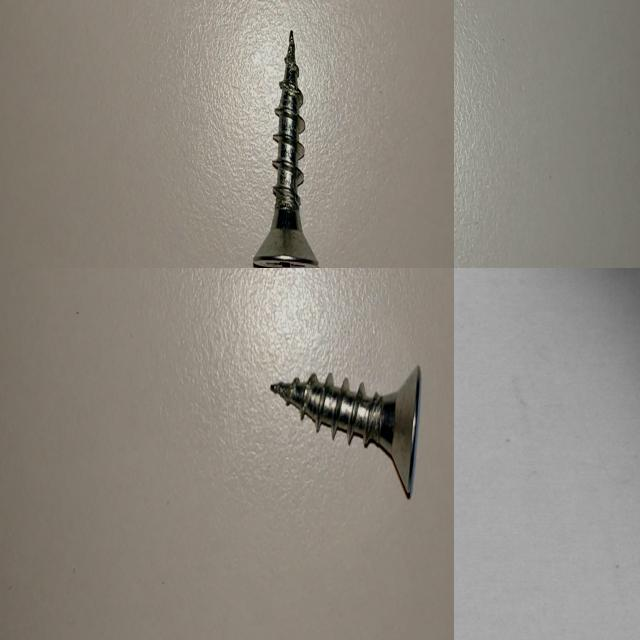Screw: (562, 268, 640, 640), (271, 365, 421, 497), (253, 29, 319, 268)
